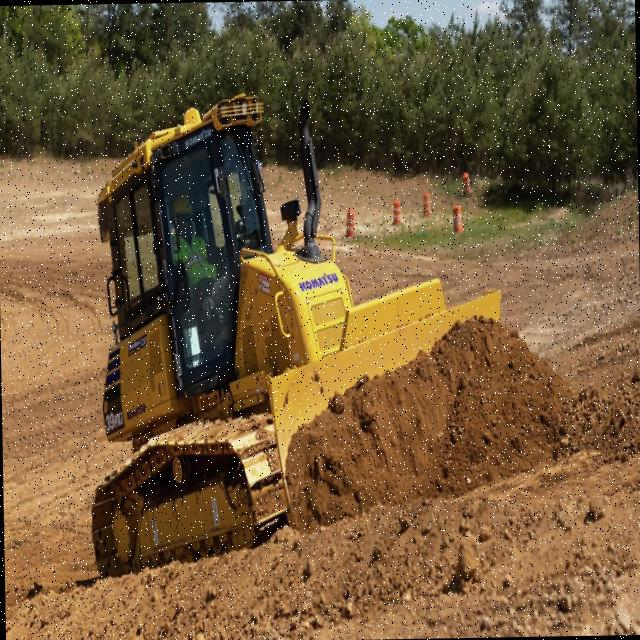Bulldozer: (64, 78, 516, 574)
